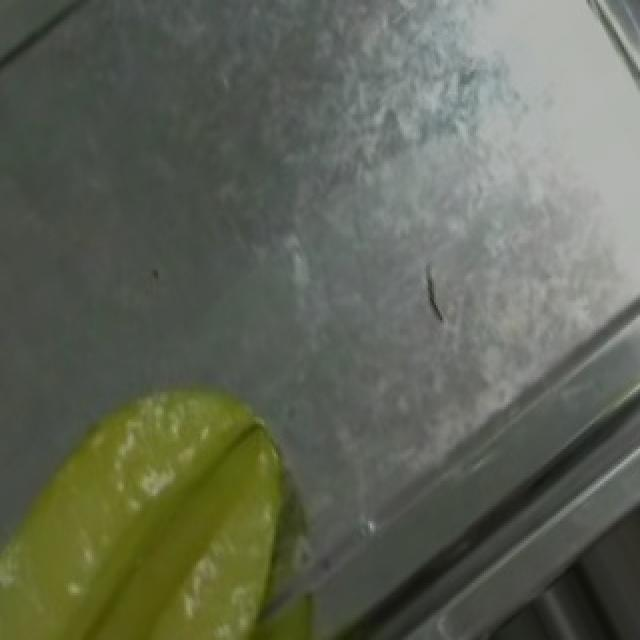fruit: (0, 335, 382, 640)
